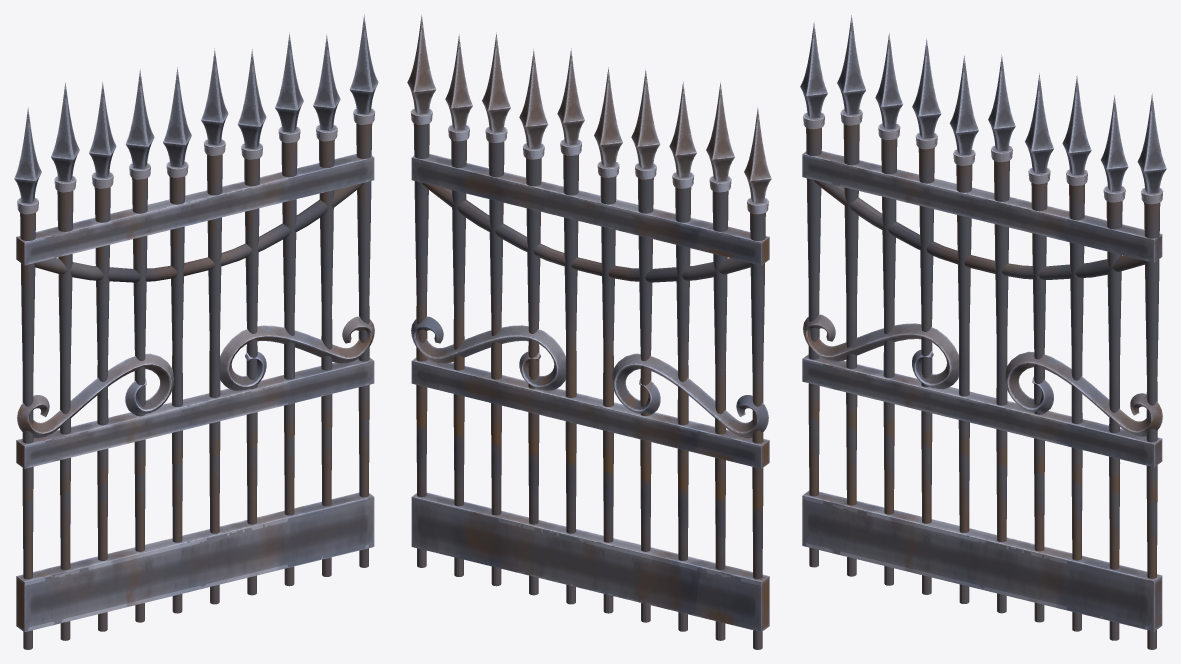
File: Prop_MetalFence_Ornament.gltf
3 renders of one model, left to right at view 1: azimuth 30°, elevation 25°; view 2: azimuth 150°, elevation 25°; view 3: azimuth 330°, elevation 25°, orthographic.
Parts seen in each view (by area): view 1: Prop_MetalFence_Ornament; view 2: Prop_MetalFence_Ornament; view 3: Prop_MetalFence_Ornament.
Boxes of the visible parts, <box> form: Prop_MetalFence_Ornament: <box>14,14,378,649</box>; Prop_MetalFence_Ornament: <box>407,14,771,649</box>; Prop_MetalFence_Ornament: <box>800,15,1166,649</box>.
Size of the model in its own units: 1.95 by 2.85 by 0.1561.
Materials: 1 (1 with a texture image).
